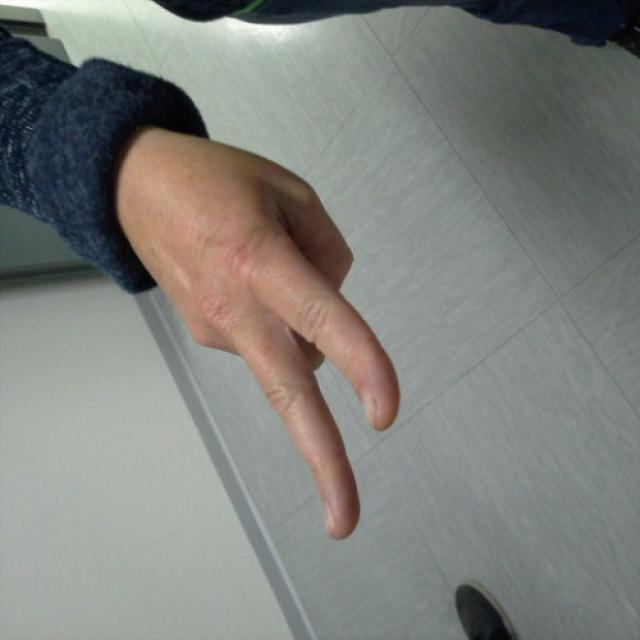scissors: (190, 140, 402, 542)
